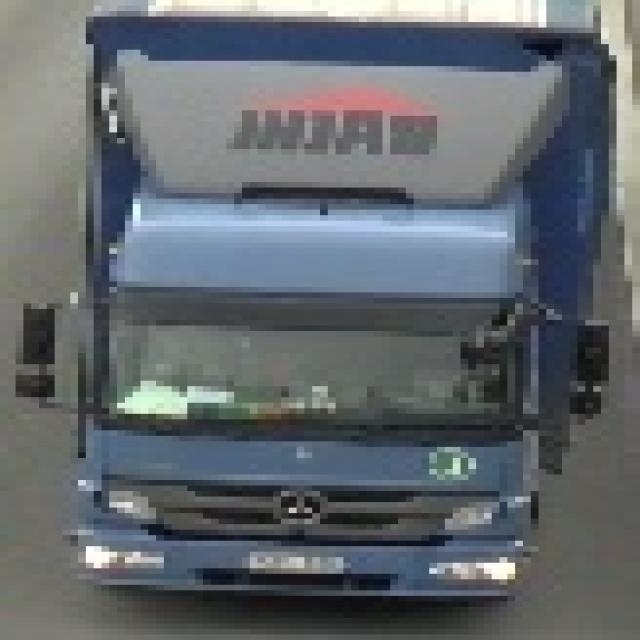TRUCK: (31, 11, 632, 618)
